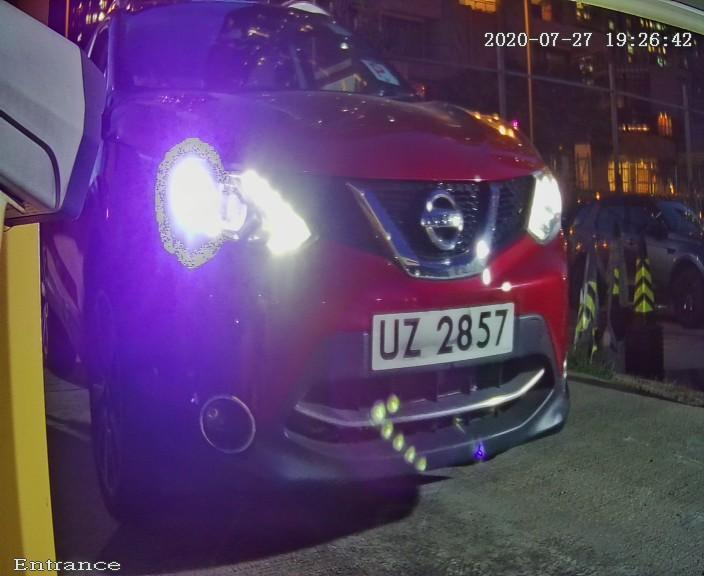privatecar: (48, 1, 613, 551)
